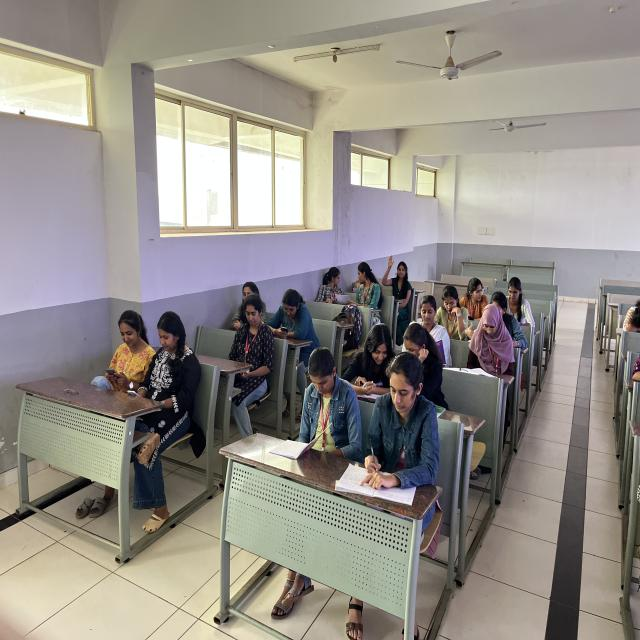Hand Rising: (385, 258, 414, 345), (379, 250, 418, 312)
Reading: (401, 321, 444, 410), (418, 303, 456, 376), (504, 276, 534, 336), (432, 286, 459, 342)
Using Phone: (86, 310, 157, 510), (133, 294, 208, 439), (469, 298, 517, 454), (265, 288, 315, 422), (223, 295, 268, 443), (309, 344, 362, 464), (461, 278, 488, 324)
Writing: (362, 351, 438, 522), (343, 323, 400, 401)
